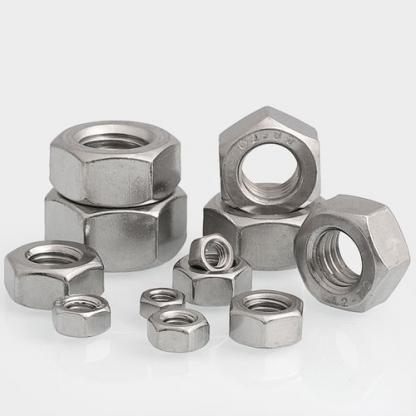FOD: (293, 194, 410, 318), (42, 180, 188, 273), (45, 118, 189, 207), (217, 104, 322, 221), (3, 239, 108, 310), (225, 290, 306, 349), (170, 255, 255, 305), (145, 307, 212, 354), (49, 296, 113, 336), (187, 231, 236, 277), (136, 286, 187, 321)
